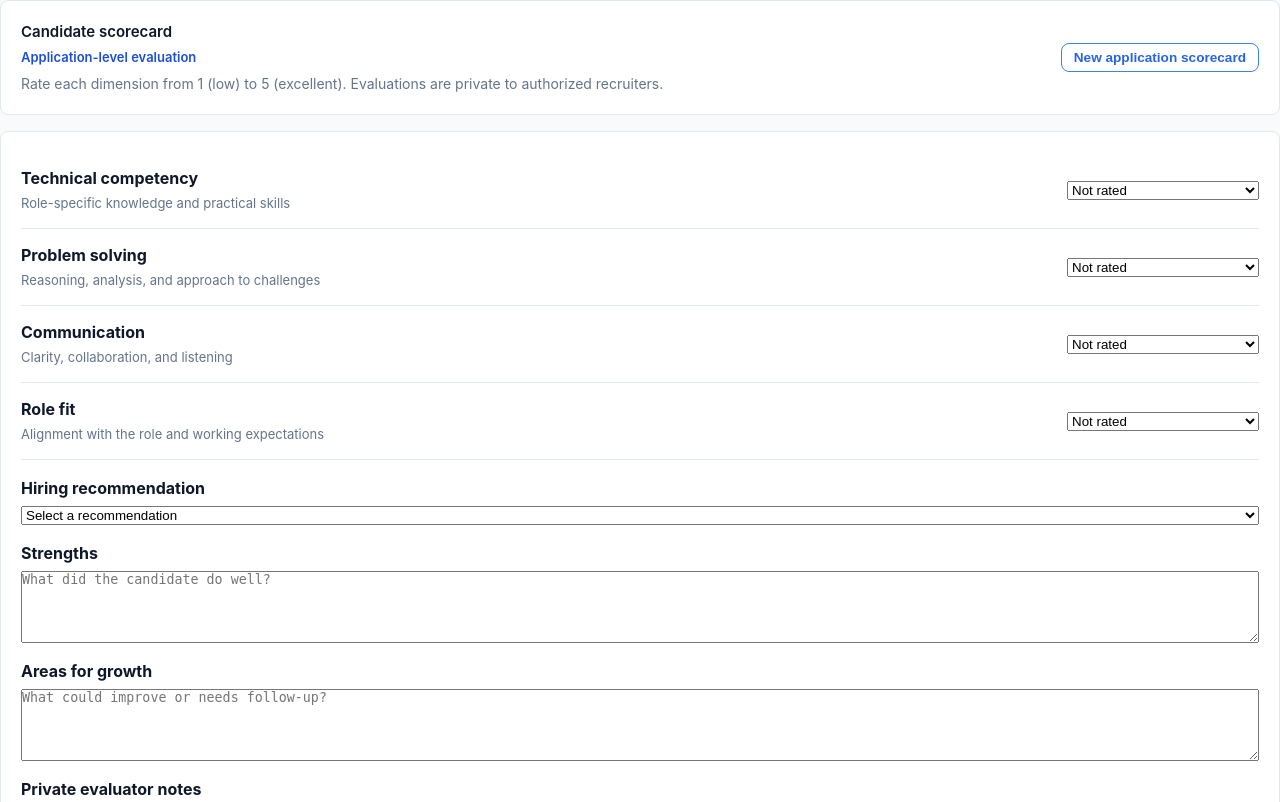
Test: CandidateEvaluationPanel › loads scorecard history and creates a draft
The width and height of the screenshot is (1280, 802).
Select "4 / 5" in the dropdown labelled "Technical competency". click: coordinates (1163, 190)
box: [1067,180,1259,200]
(page scrolled)
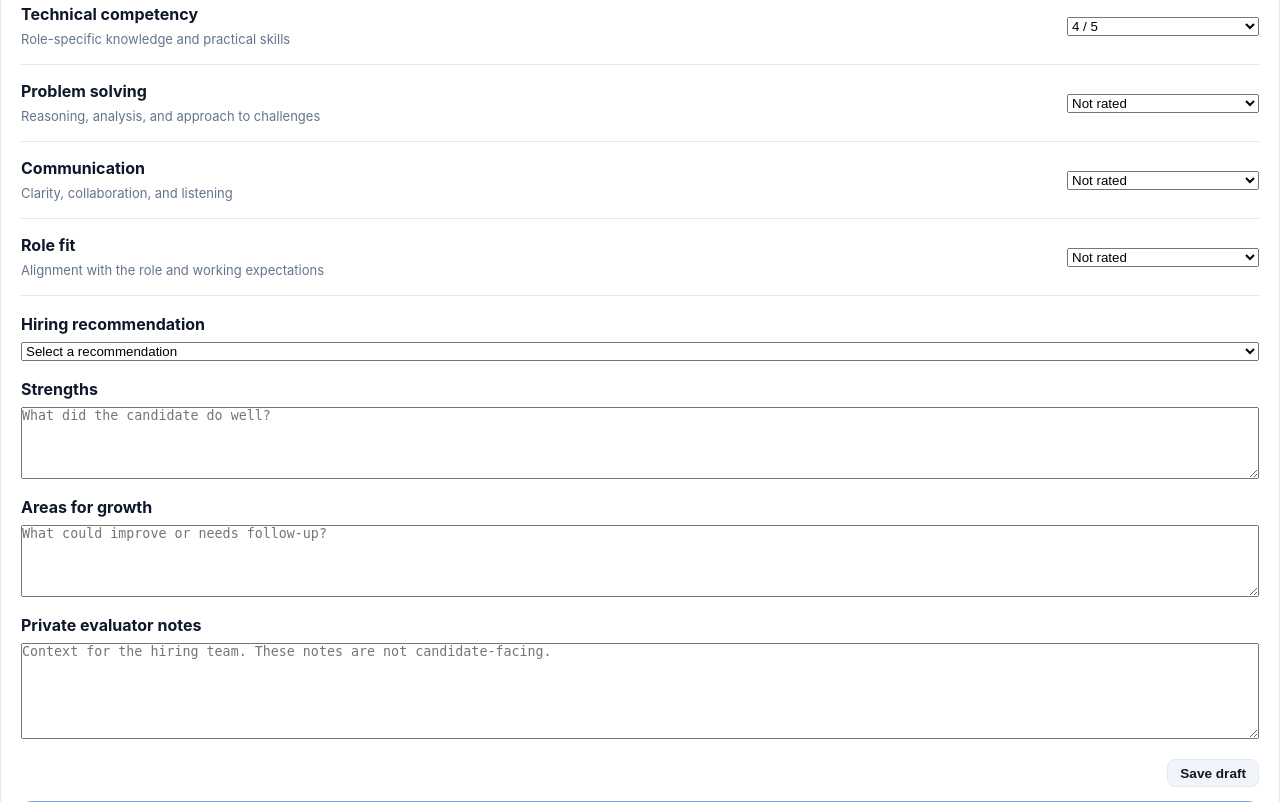
Click the button with test id "save-candidate-evaluation-draft-btn". click: coordinates (1213, 773)
box: [1167,759,1259,787]
(page scrolled)
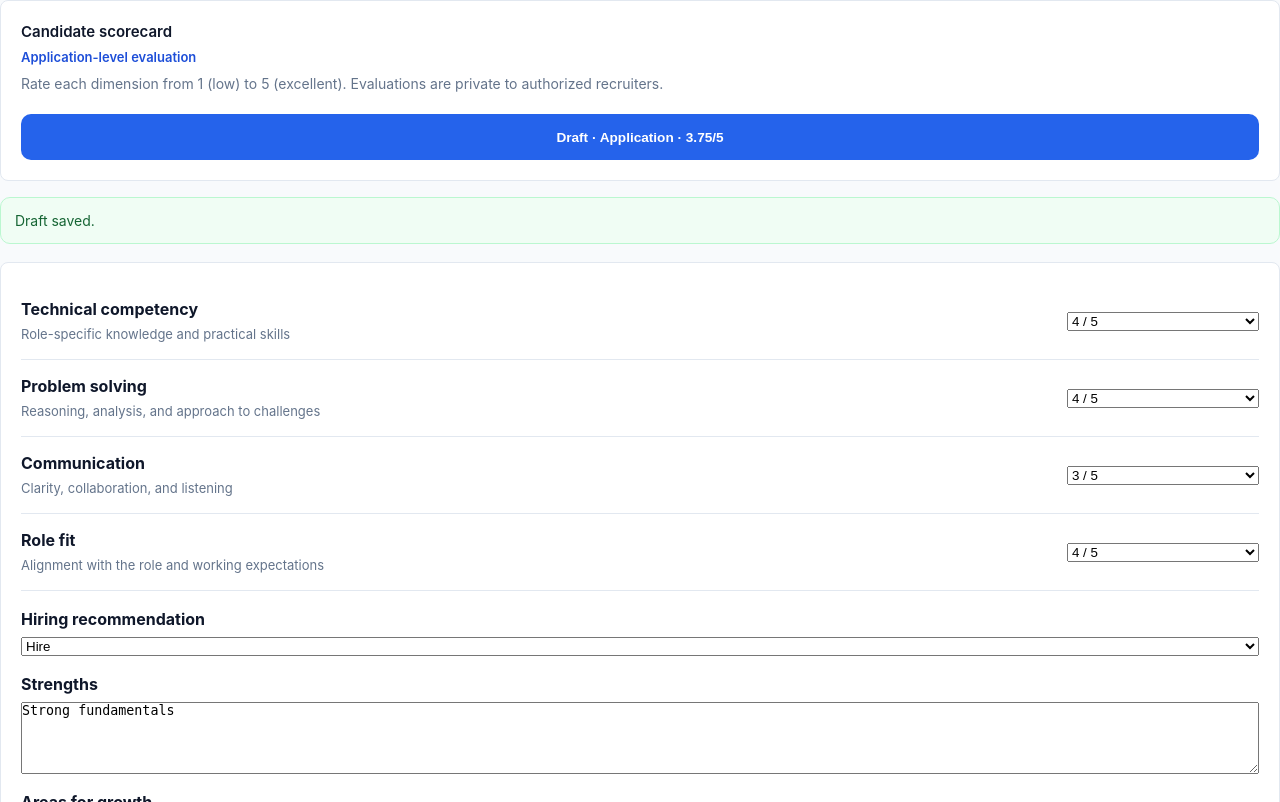
Now the message reads "Draft saved.", box [15,212,95,229]
